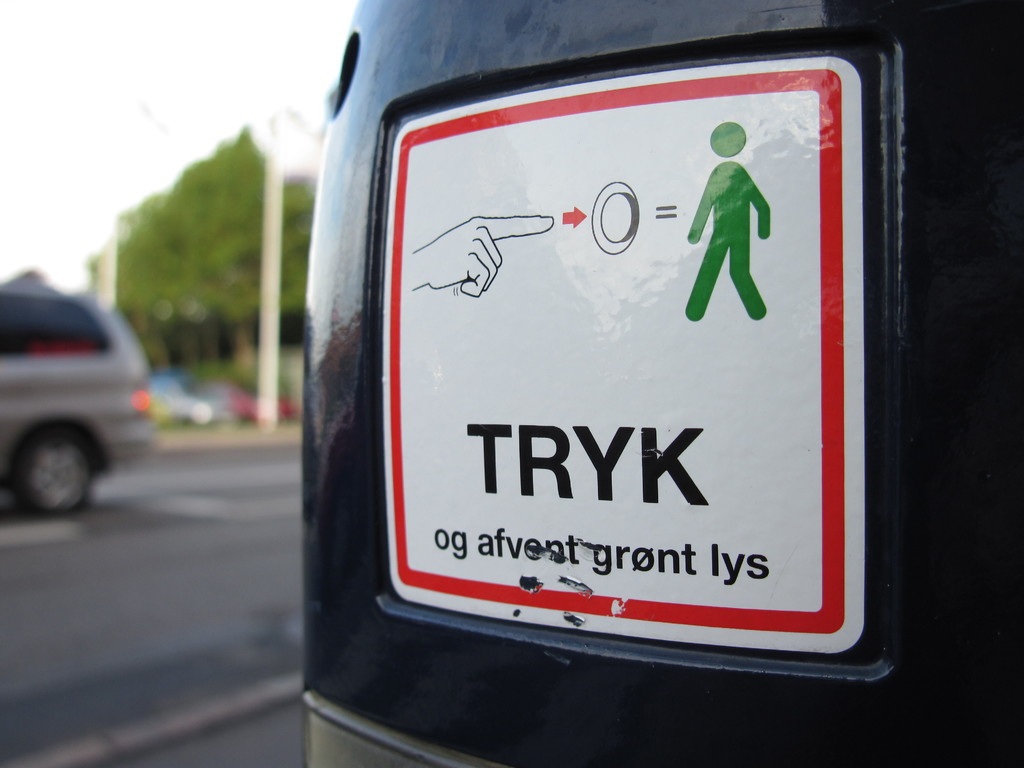Car: (5, 282, 174, 520)
